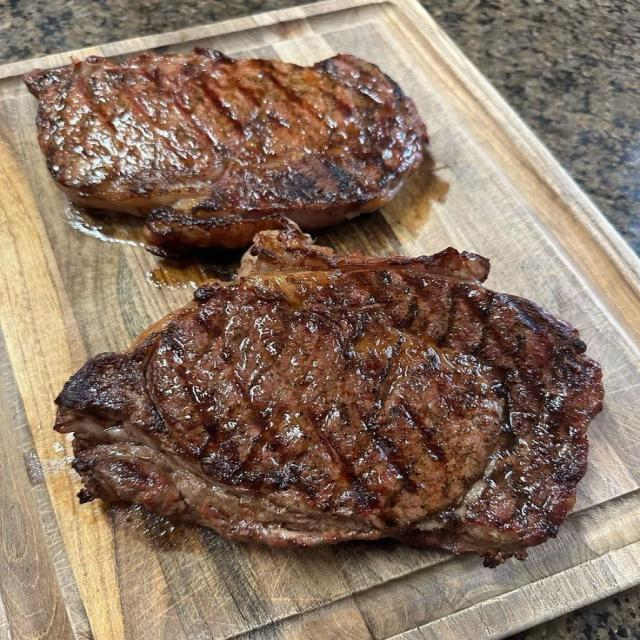beef steak: (56, 230, 602, 564), (25, 49, 426, 251)
